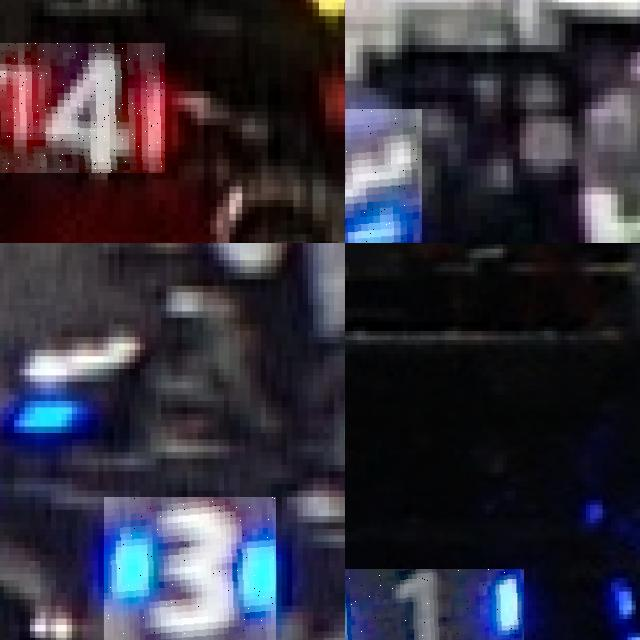B1: (345, 568, 523, 640)
B3: (103, 497, 276, 640), (345, 109, 421, 243)
R4: (0, 43, 165, 172)
